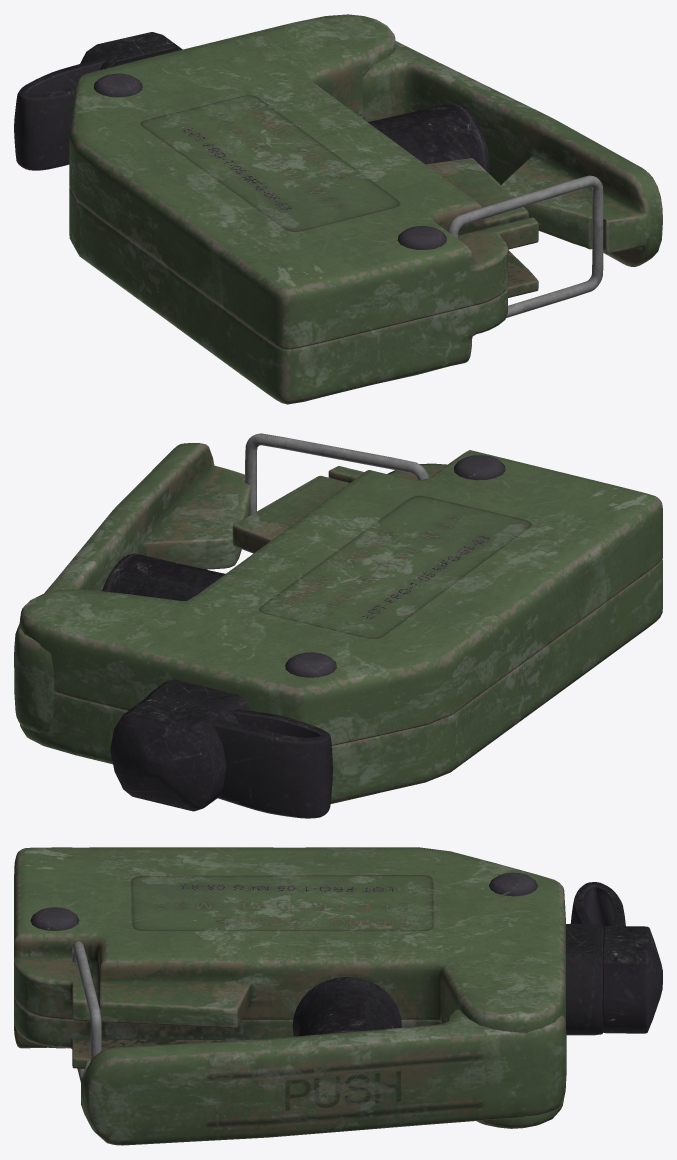
Rendered from detonator_m57_free.glb.
The picture shows the model from 3 angles, top to bottom: view 1: azimuth 30°, elevation 25°; view 2: azimuth 150°, elevation 25°; view 3: azimuth 270°, elevation 25°; orthographic projection. The views are drawn at different scales.
Parts seen in each view (by area): view 1: M057Free; view 2: M057Free; view 3: M057Free.
Boxes of the visible parts, x1=… form: M057Free: x1=14, y1=14, x2=662, y2=404; M057Free: x1=14, y1=433, x2=662, y2=818; M057Free: x1=14, y1=847, x2=662, y2=1145.
Size of the model in its own units: 0.1112 by 0.0337 by 0.1506.
1 material, 1 textured.
